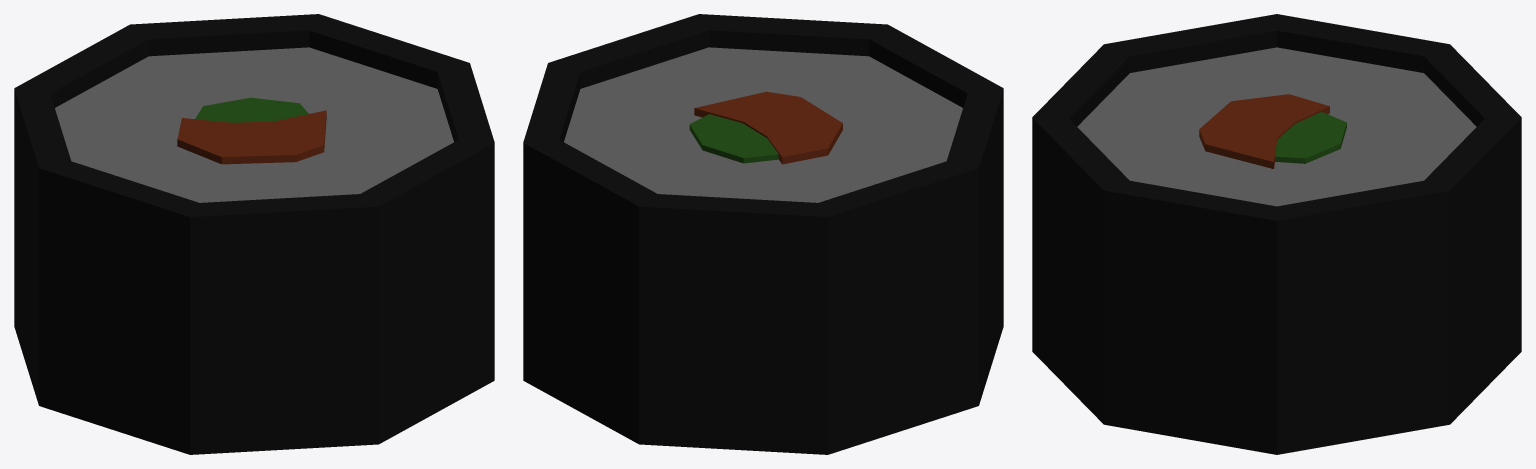
Rendered from Sushi_Roll2.obj.
3 renders of one model, left to right at view 1: azimuth 30°, elevation 25°; view 2: azimuth 150°, elevation 25°; view 3: azimuth 270°, elevation 25°, orthographic.
Parts seen in each view (by area): view 1: Sushi_Roll2_Cylinder.010; view 2: Sushi_Roll2_Cylinder.010; view 3: Sushi_Roll2_Cylinder.010.
Boxes of the visible parts, x1=… form: Sushi_Roll2_Cylinder.010: x1=14, y1=14, x2=494, y2=454; Sushi_Roll2_Cylinder.010: x1=523, y1=14, x2=1003, y2=454; Sushi_Roll2_Cylinder.010: x1=1032, y1=14, x2=1521, y2=454.
Bounding box in the file's own units: 0.2926 × 0.1543 × 0.2926.
